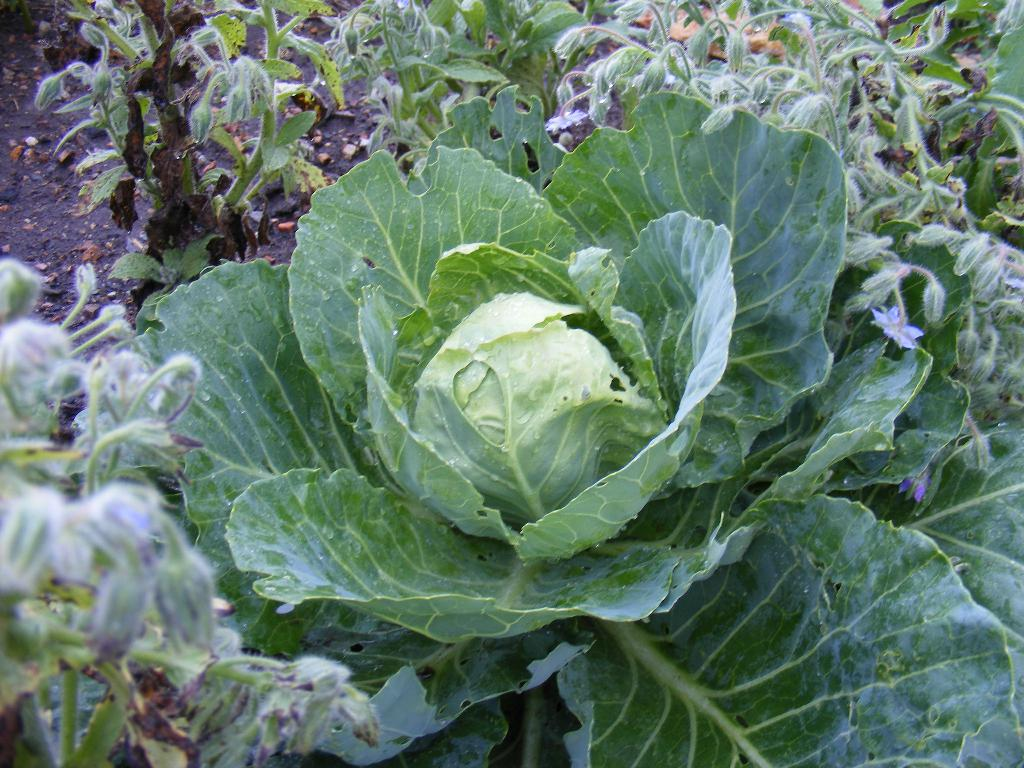Cabbage: (110, 92, 1024, 768)
